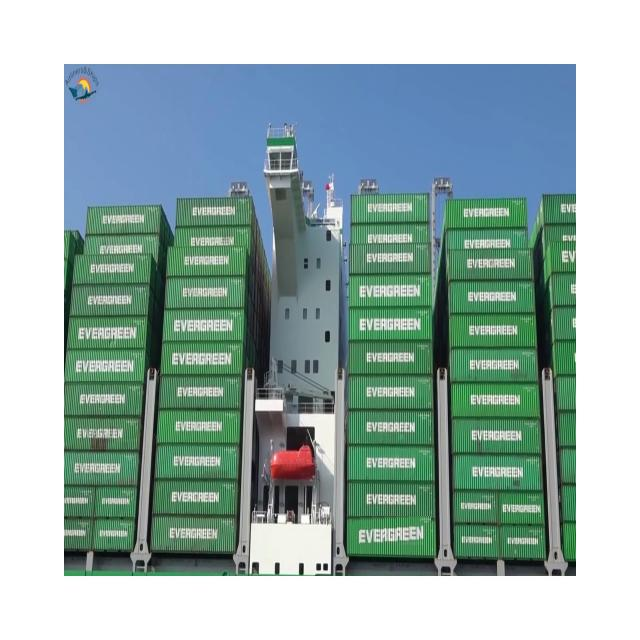OCR: (353, 516, 431, 553)
